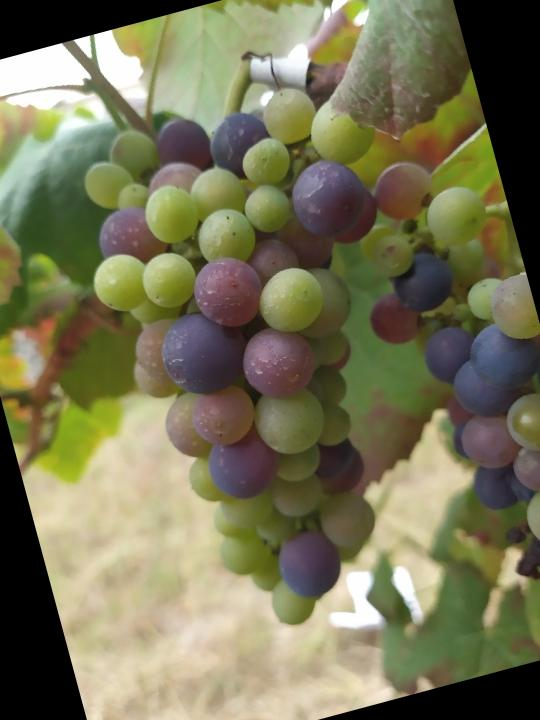grape: (54, 65, 497, 656)
